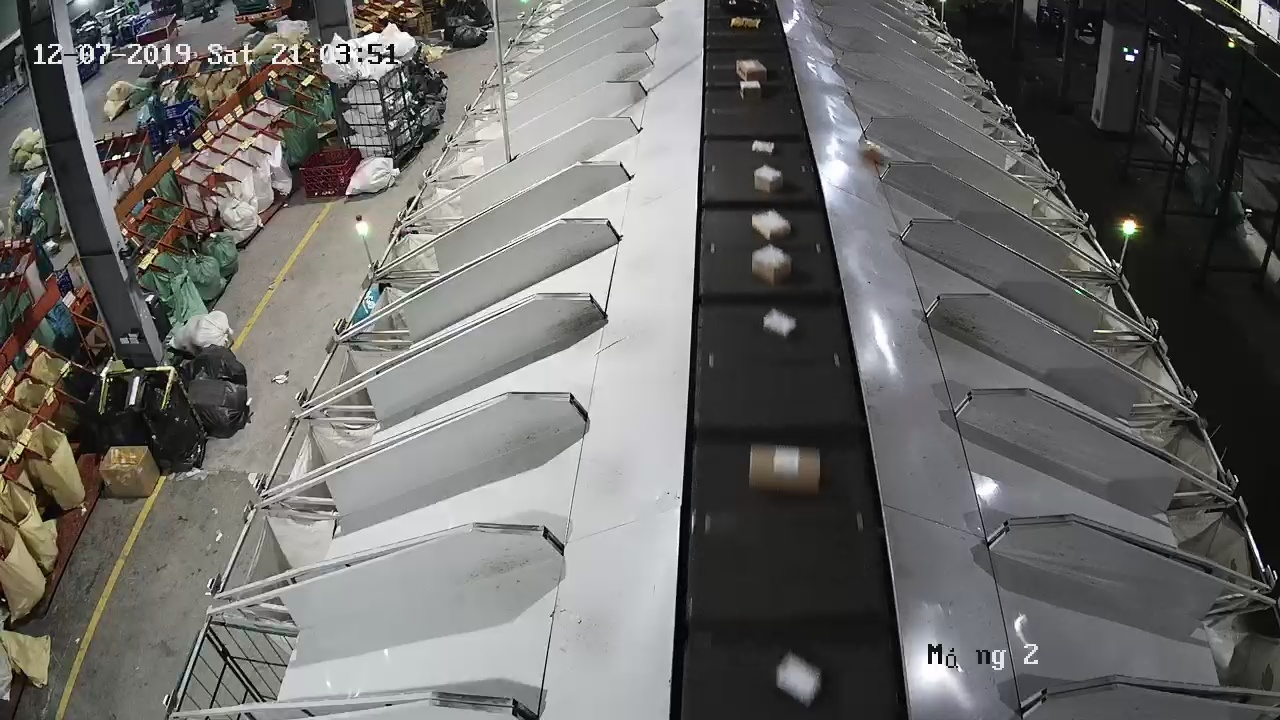parcel: (857, 138, 890, 165)
